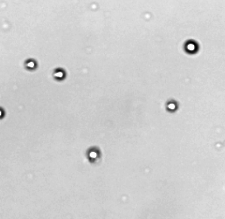Living Cell: (184, 39, 199, 55), (87, 147, 101, 163), (53, 68, 65, 81), (165, 100, 178, 112), (25, 58, 36, 70)
